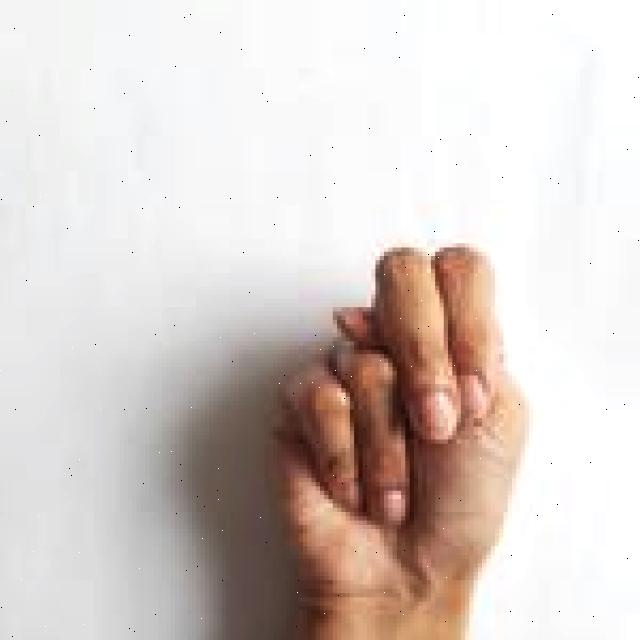N: (250, 234, 539, 640)
